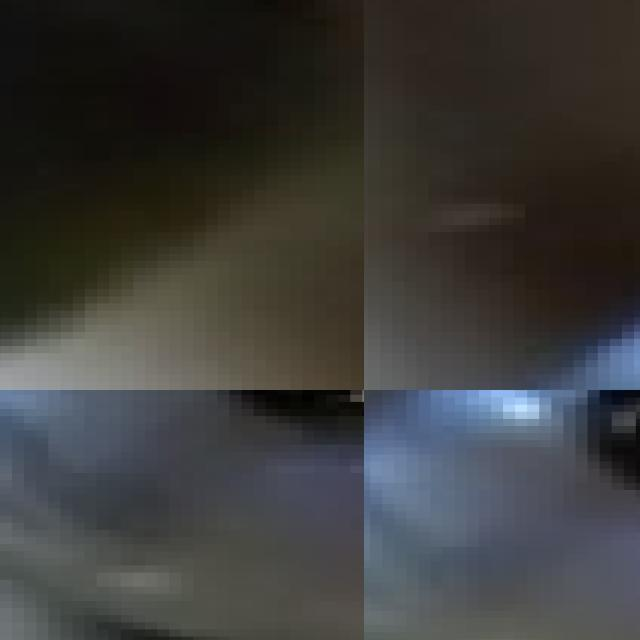fish: (0, 0, 364, 390), (0, 390, 364, 640)
